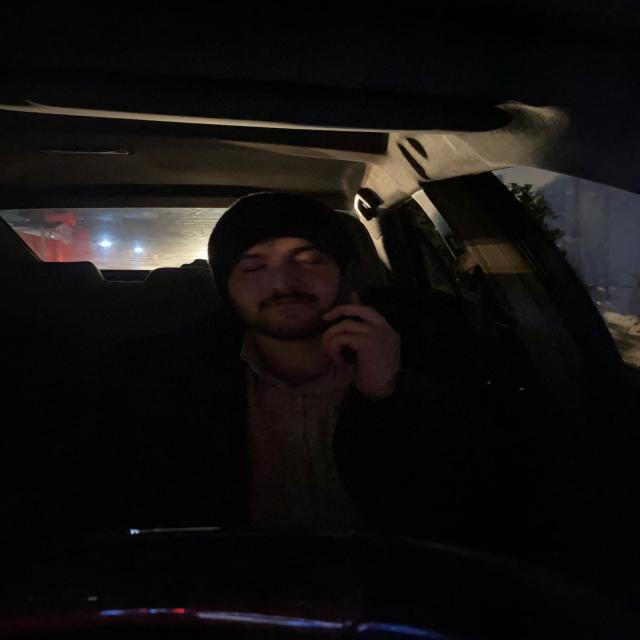phone: (338, 255, 367, 359)
